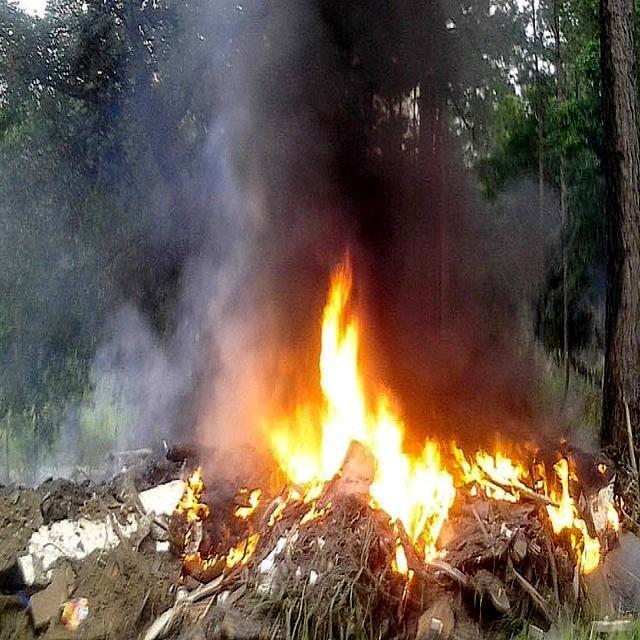Fire: (236, 269, 636, 610), (157, 462, 315, 631)
Smoke: (23, 6, 615, 404)
